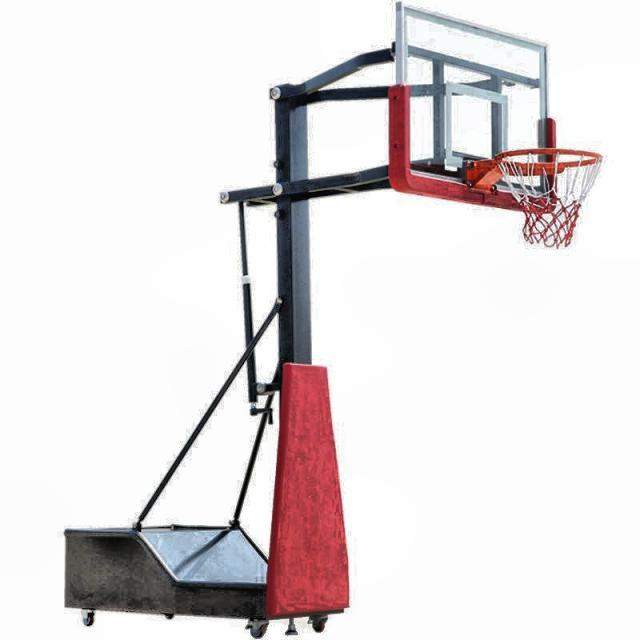rim: (499, 149, 604, 246)
